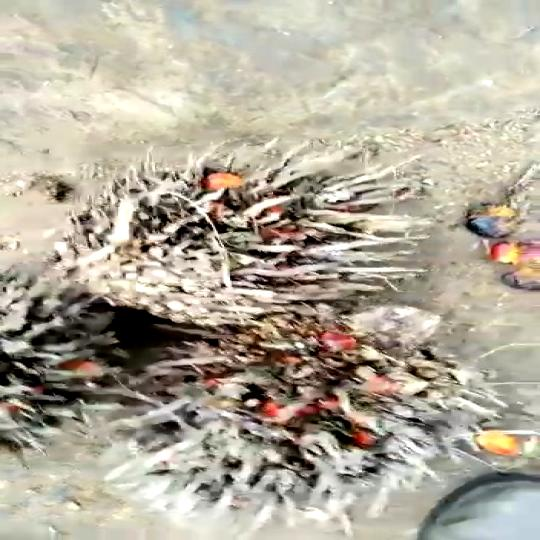terlalu masak: (117, 312, 473, 512), (46, 160, 443, 327)
